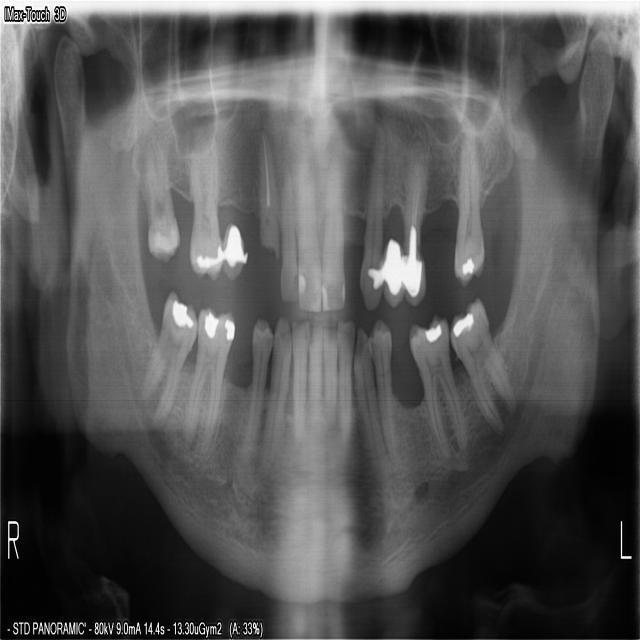LCD: (353, 332, 388, 465)
LCU: (359, 140, 388, 307)
LID: (335, 319, 356, 443), (322, 324, 338, 438)
LIU: (321, 147, 346, 315)
LMD: (449, 293, 520, 432), (407, 315, 470, 466)
LMU: (450, 133, 487, 287)
LPMD: (368, 318, 398, 458)
LPMU: (402, 147, 431, 307), (383, 147, 404, 312)
RCD: (261, 316, 292, 472)
RCU: (255, 126, 279, 258)
RID: (306, 318, 324, 444), (291, 319, 308, 449)
RIU: (291, 141, 324, 316), (278, 147, 298, 304)
RMD: (183, 304, 237, 452), (143, 288, 198, 422)
RMU: (186, 126, 245, 283), (142, 141, 181, 268)
RPMD: (244, 315, 272, 449)
